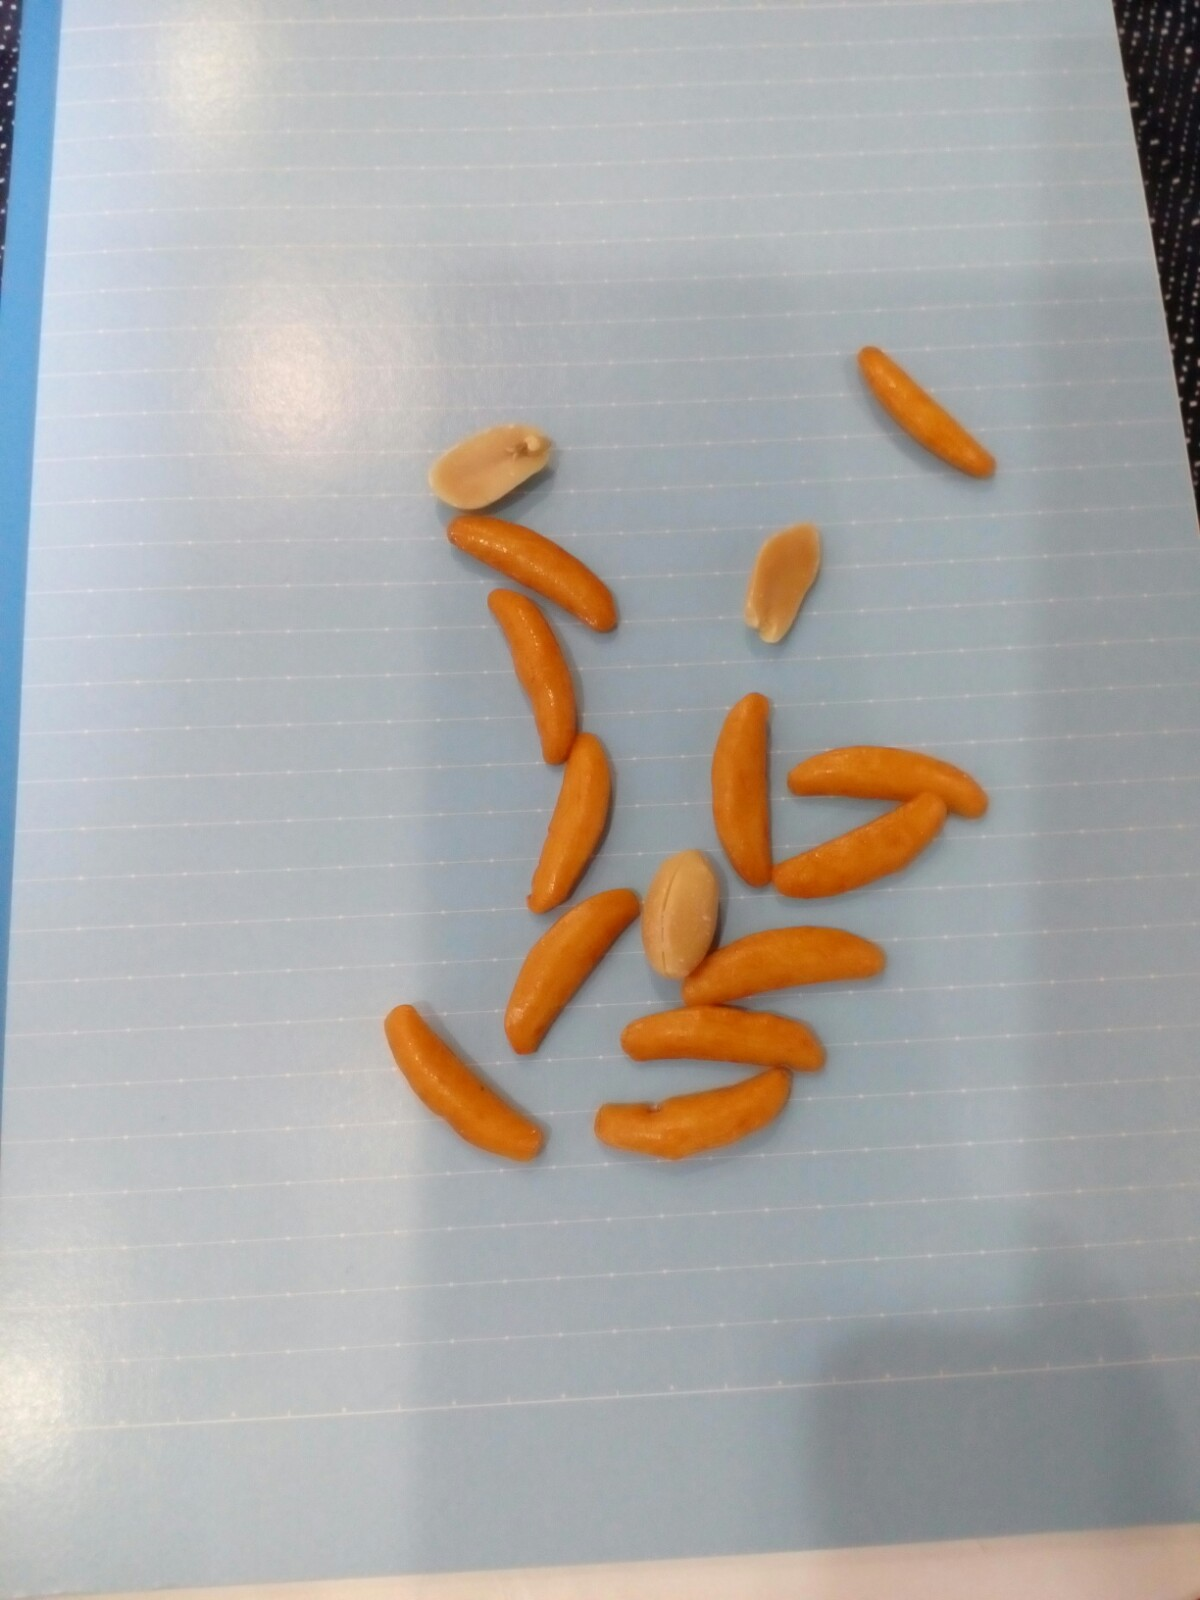peanut: (426, 425, 574, 519), (735, 517, 839, 648), (643, 848, 729, 986)
